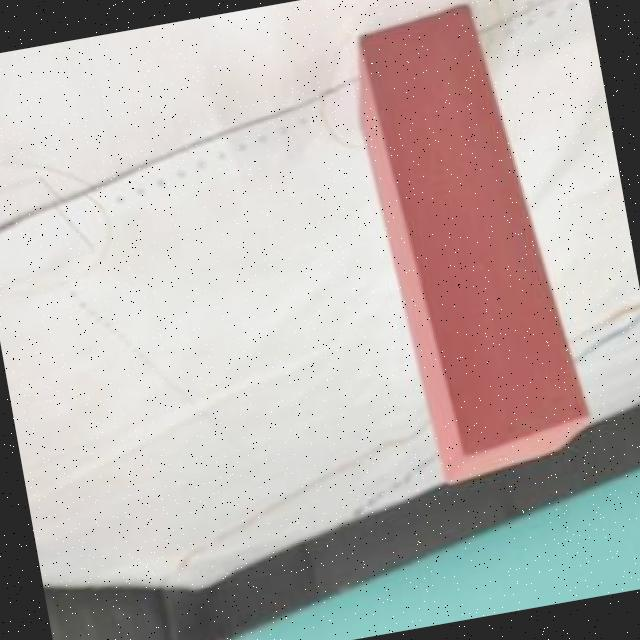redbox: (340, 0, 598, 487)
